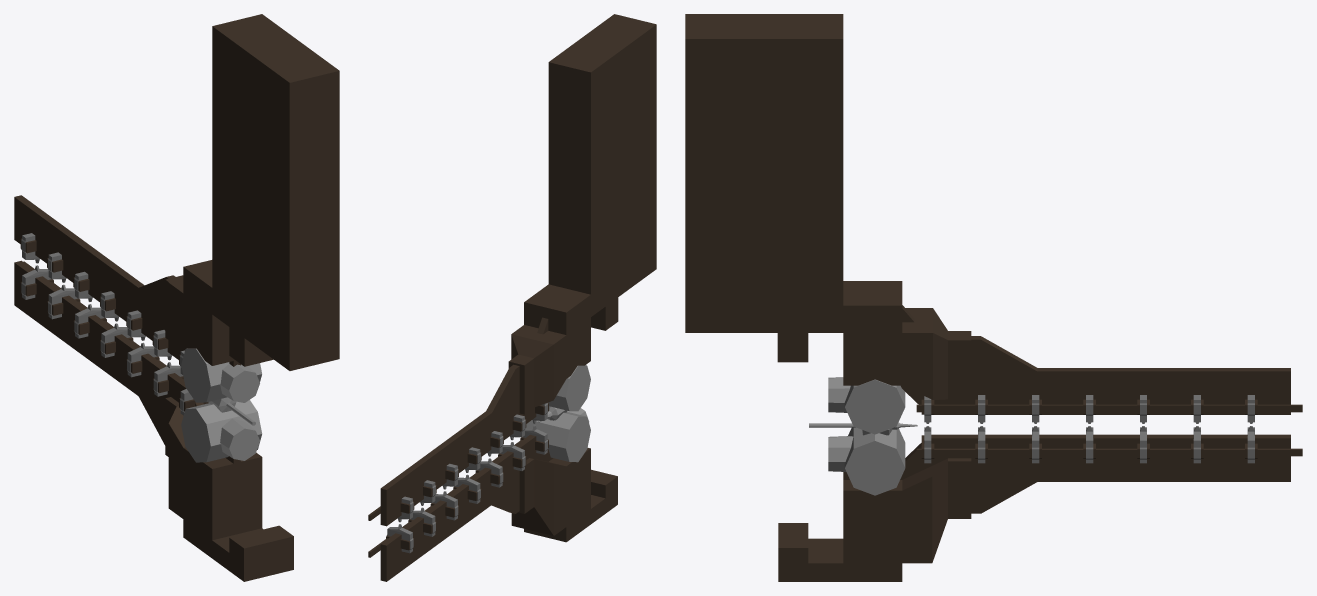
The model's file is V1_Focuser.obj.
The picture shows the model from 3 angles, left to right: view 1: azimuth 30°, elevation 25°; view 2: azimuth 150°, elevation 25°; view 3: azimuth 270°, elevation 25°; orthographic projection. The views are drawn at different scales.
Visible parts, largest first — view 1: Cube.005, Cube.008, Repeater, Cube.006; view 2: Cube.005, Cube.008, Repeater; view 3: Cube.005, Cube.008, Repeater, Cube.006.
Part boxes in pixels (box(x1,y1,x2,y2)): Cube.005: box(165, 14, 339, 581); Cube.008: box(14, 195, 262, 533); Repeater: box(20, 233, 208, 415); Cube.006: box(208, 364, 259, 460); Cube.005: box(508, 14, 656, 542); Cube.008: box(368, 317, 590, 581); Repeater: box(386, 402, 548, 553); Cube.005: box(685, 14, 971, 581); Cube.008: box(843, 305, 1302, 513); Repeater: box(921, 395, 1257, 463); Cube.006: box(809, 377, 917, 471).
Size of the model in its own units: 0.1093 by 1.08 by 1.11.
